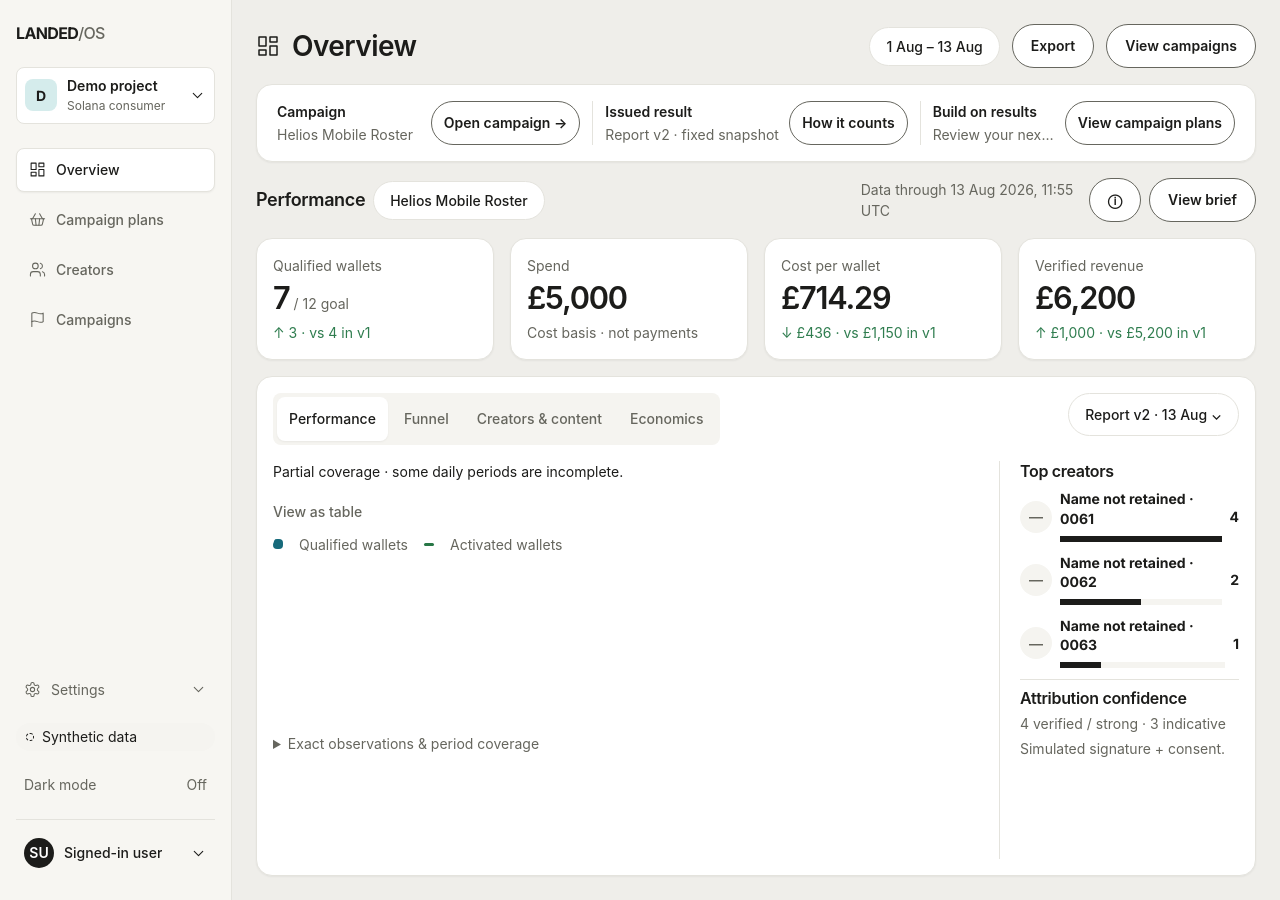
Test: merged Overview › keeps historical missing names honest, readable and without fabricated initials
Expected: the text "Name not retained · 0061" is shown, x1=1060 y1=490 x2=1194 y2=527
Click the button "How it counts" at coordinates (848, 123), box x1=789 y1=101 x2=908 y2=145
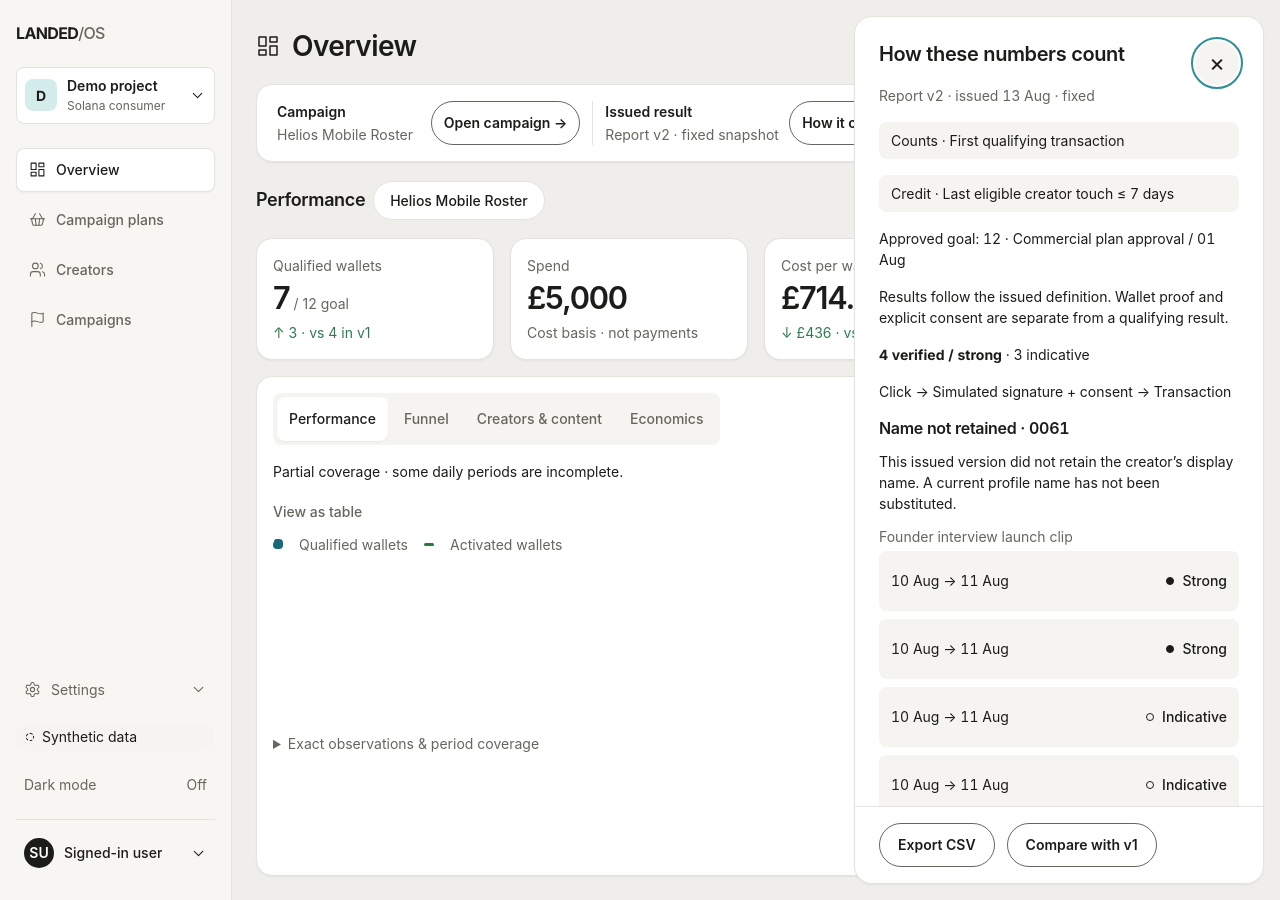
Now the text "current profile name has not been substituted" is shown, box x1=879 y1=453 x2=1233 y2=512
